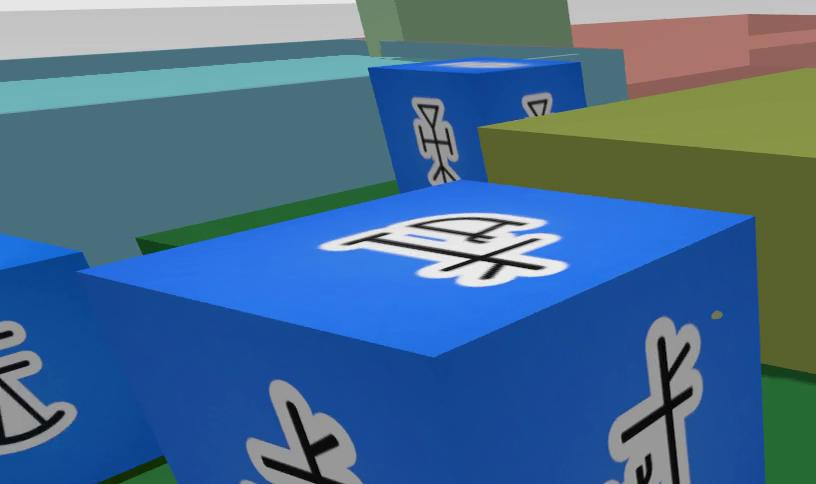KFS_REAL: (81, 181, 764, 484), (0, 234, 160, 484), (371, 57, 588, 190), (320, 213, 566, 287), (604, 317, 702, 484), (241, 380, 364, 484), (0, 320, 76, 454), (413, 98, 458, 184)
